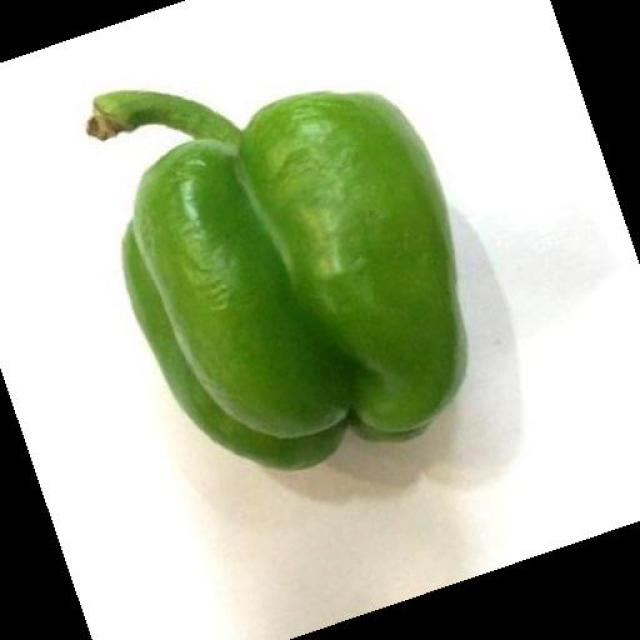Fresh_Capsicum: (95, 136, 499, 442)
